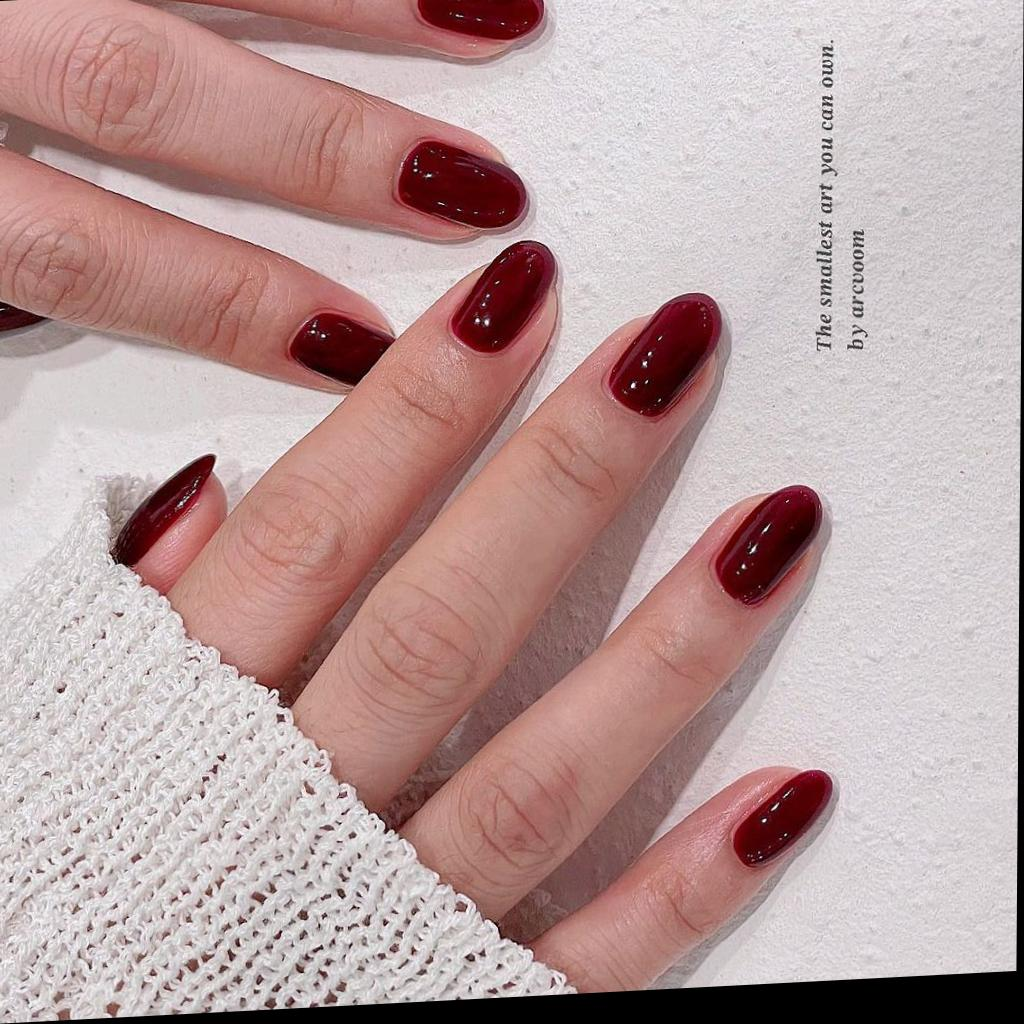nail: (603, 290, 722, 423), (710, 482, 823, 609), (392, 134, 528, 237), (446, 238, 556, 359), (109, 452, 218, 569), (730, 767, 835, 870), (285, 305, 396, 393), (411, 0, 544, 49)
